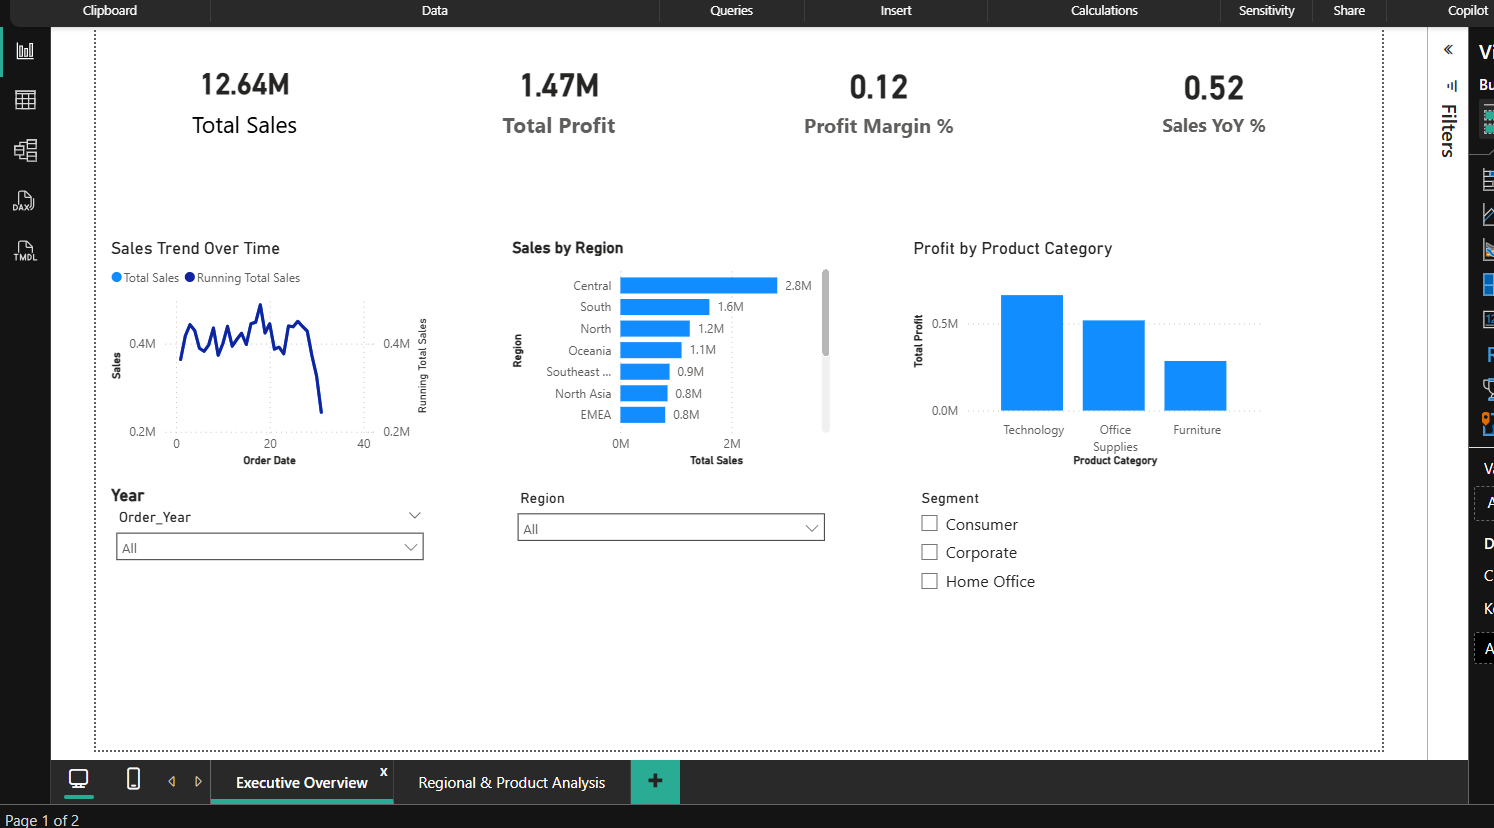

Layout of this report page (visuals, bound fields, positions):
{"tool":"powerbi","page":{"name":"Executive Overview","canvas":[1280,720],"ordinal":0},"visuals":[{"type":"card","fields":{"Values":["Measure.Total Sales"]},"box":[10,0,276.2,140.6],"z":0},{"type":"card","fields":{"Values":["Measure.Total Profit"]},"box":[320.9,0,279.9,140.6],"z":1000},{"type":"card","fields":{"Values":["Measure.Profit Margin %"]},"box":[639.4,0,279.9,140.6],"z":2000},{"type":"card","fields":{"Values":["Measure.Sales YoY %"]},"box":[972.8,0,279.9,140.6],"z":3000},{"type":"lineChart","title":"Sales Trend Over Time","fields":{"Category":["cleaned_global_superstore2.Order_Date.Variation.Date Hierarchy.Day"],"Y":["Measure.Total Sales"],"Y2":["Measure.Running Total Sales"]},"box":[10,210,326.2,232.5],"z":4000},{"type":"clusteredBarChart","title":"Sales by Region","fields":{"Category":["cleaned_global_superstore2.Region"],"Y":["Measure.Total Sales"]},"box":[408.8,210,326.2,232.5],"z":5000},{"type":"clusteredColumnChart","title":"Profit by Product Category","fields":{"Category":["cleaned_global_superstore2.Category"],"Y":["Measure.Total Profit"]},"box":[808.8,210,357.5,232.5],"z":6000},{"type":"slicer","title":"Year","fields":{"Values":["cleaned_global_superstore2.Order_Year"]},"box":[10,455,326.2,121.2],"z":7000},{"type":"slicer","fields":{"Values":["cleaned_global_superstore2.Region"]},"box":[409,455,326,150],"z":8000},{"type":"slicer","fields":{"Values":["cleaned_global_superstore2.Segment"]},"box":[809,455,358,150],"z":9000}]}

Visuals, with their boxes on the page's 1280x720 design canvas (x1, y1, x2, y2). These are canvas units, not pixel positions in the 1494x828 screenshot, which may show the page scaled, cropped or inside an application window:
card - Measure.Total Sales: 10,0,286,141
card - Measure.Total Profit: 321,0,601,141
card - Measure.Profit Margin %: 639,0,919,141
card - Measure.Sales YoY %: 973,0,1253,141
"Sales Trend Over Time" lineChart: 10,210,336,442
"Sales by Region" clusteredBarChart: 409,210,735,442
"Profit by Product Category" clusteredColumnChart: 809,210,1166,442
"Year" slicer: 10,455,336,576
slicer - cleaned_global_superstore2.Region: 409,455,735,605
slicer - cleaned_global_superstore2.Segment: 809,455,1167,605
